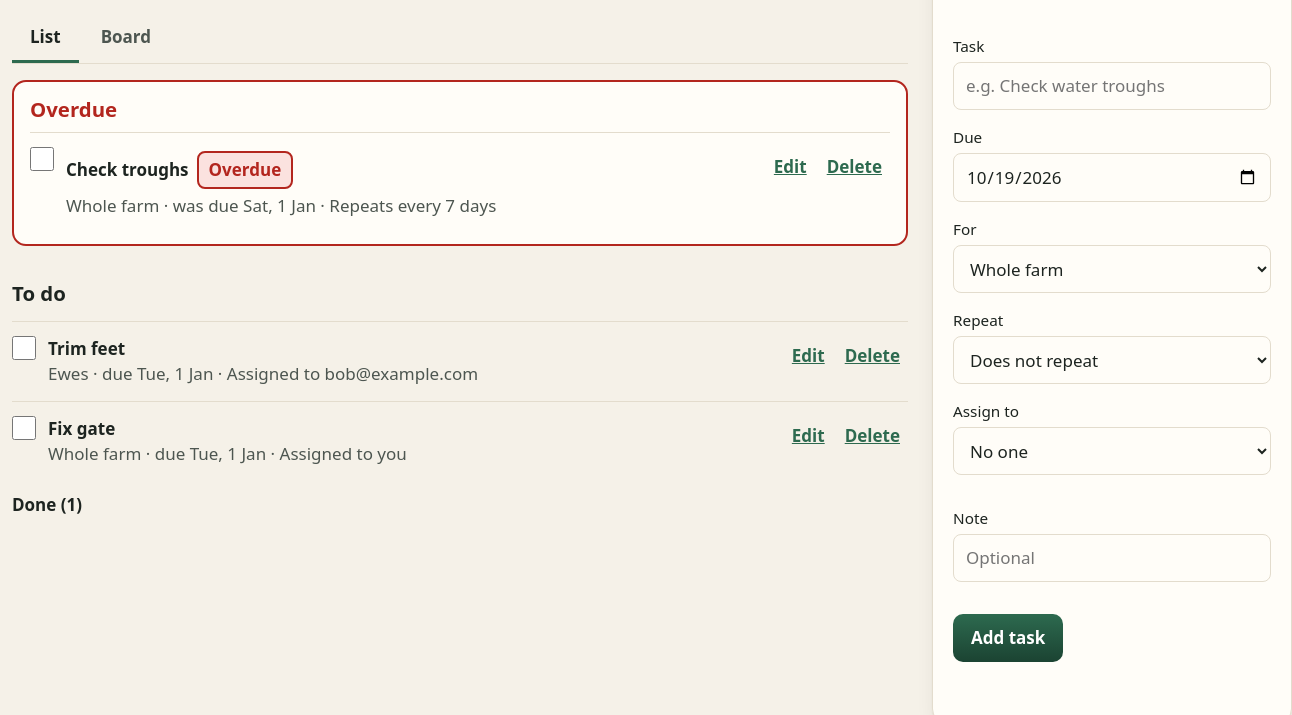
Test: TasksPage (FR-5.3) › opens an edit form for a task
The width and height of the screenshot is (1292, 715).
(page scrolled)
Click the button named "Edit Trim feet" at (808, 356), box [784,332,833,380]
(page scrolled)
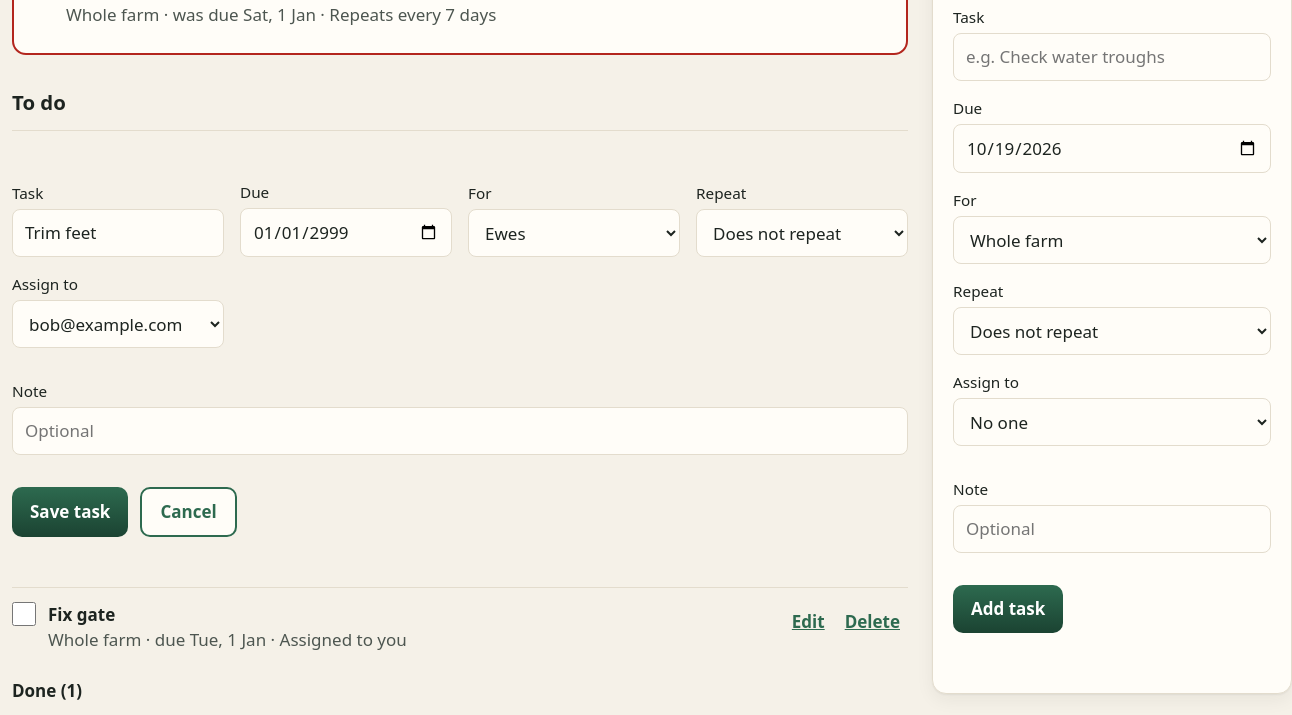
Expected: the form named "Edit task" is shown, [12,165,908,552]
